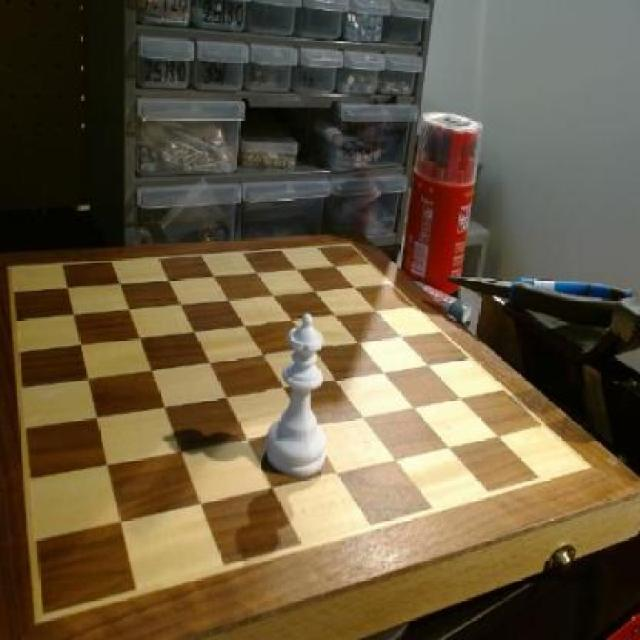white-pawn: (266, 314, 333, 479)
